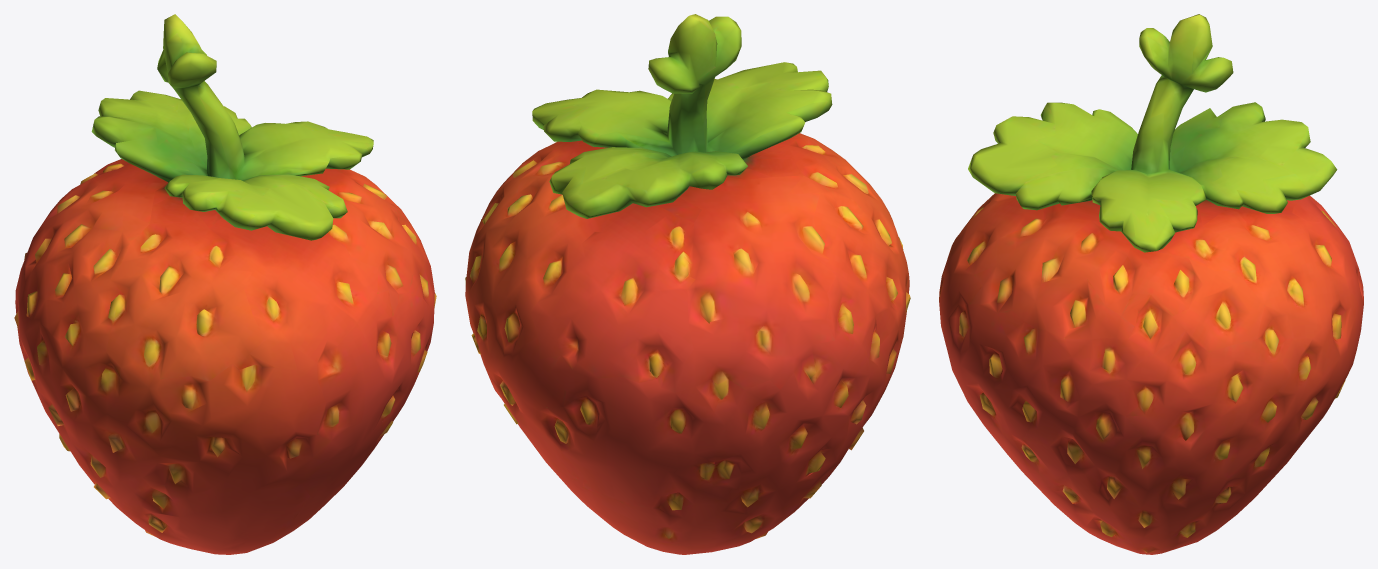
The model's file is food_strawberry.glb.
3 renders of one model, left to right at view 1: azimuth 30°, elevation 25°; view 2: azimuth 150°, elevation 25°; view 3: azimuth 270°, elevation 25°, orthographic. The views are drawn at different scales.
Parts seen in each view (by area): view 1: tripo_node_89bd4048-f86c-4a9d-84a7-c83dfb285d59; view 2: tripo_node_89bd4048-f86c-4a9d-84a7-c83dfb285d59; view 3: tripo_node_89bd4048-f86c-4a9d-84a7-c83dfb285d59.
Boxes of the visible parts, x1,y1,x2,y2 form: tripo_node_89bd4048-f86c-4a9d-84a7-c83dfb285d59: (14,14,436,554); tripo_node_89bd4048-f86c-4a9d-84a7-c83dfb285d59: (465,14,910,554); tripo_node_89bd4048-f86c-4a9d-84a7-c83dfb285d59: (939,14,1363,554).
Bounding box in the file's own units: 0.0738 × 0.1 × 0.0743.
Materials: 1 (1 with a texture image).
